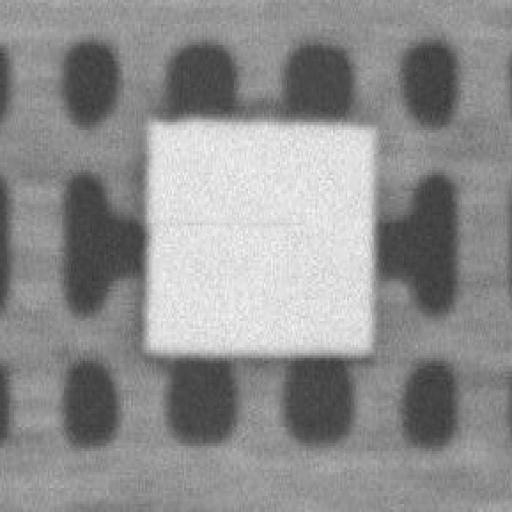DIE_CRACK: (170, 212, 299, 228)
